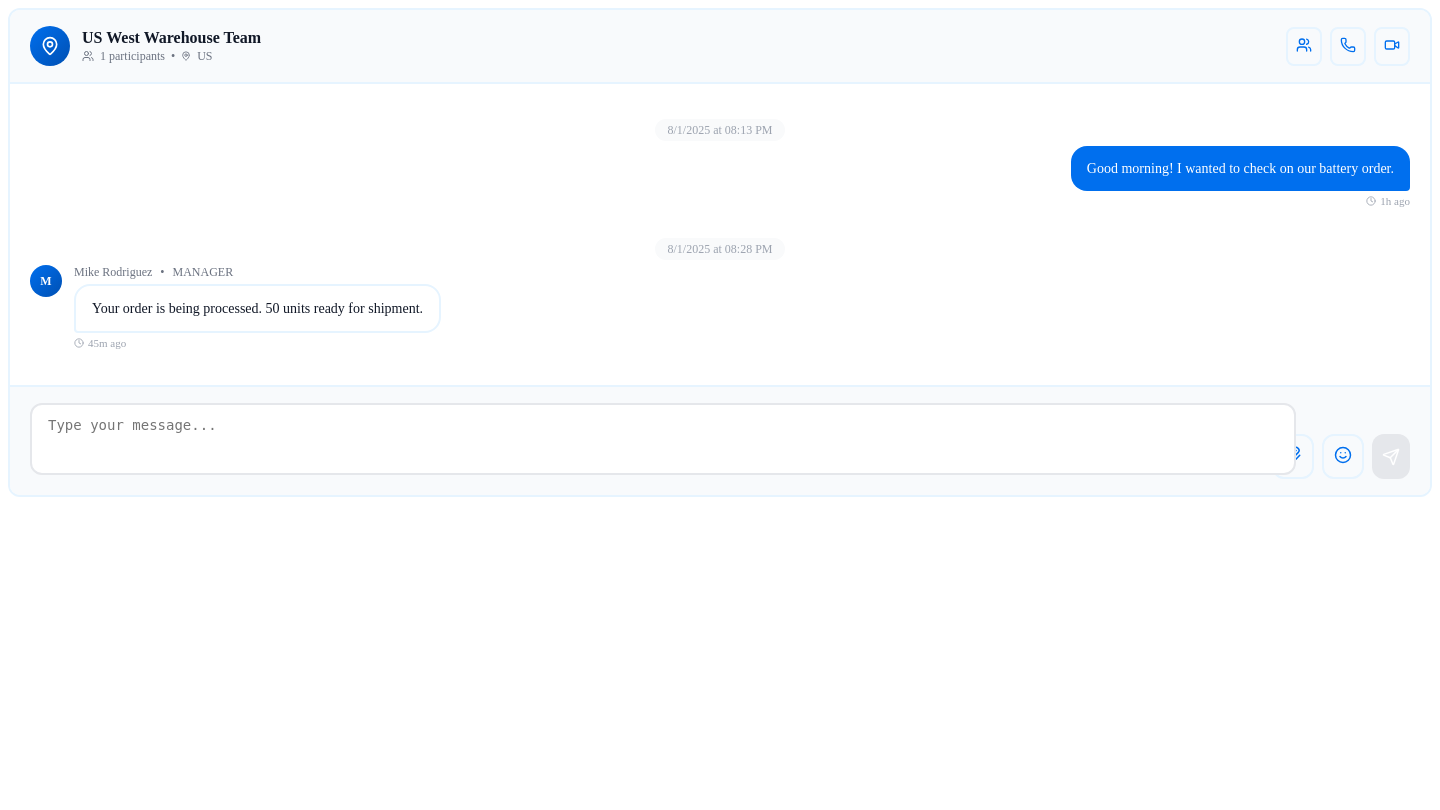
Scenario: ChatInterface Component Tests › Message Sending › should send message when Enter is pressed
This screenshot has width=1440, height=810.
In the text box with placeholder "Type your message...": [663, 439] box [30,403,1296,475], type "Test message"
Then press Enter
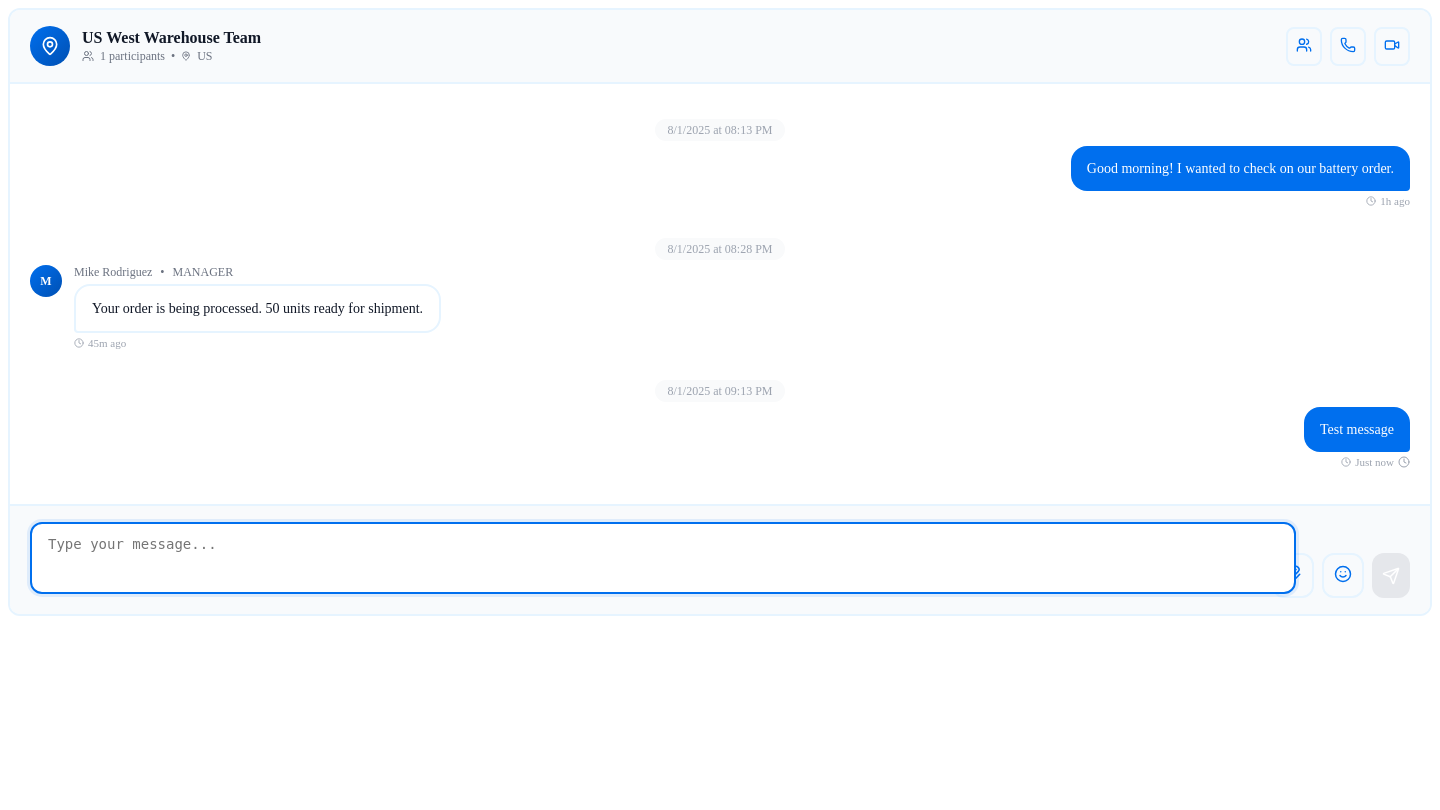
Check: the text "Test message" is shown, box [1304,407,1410,452]
